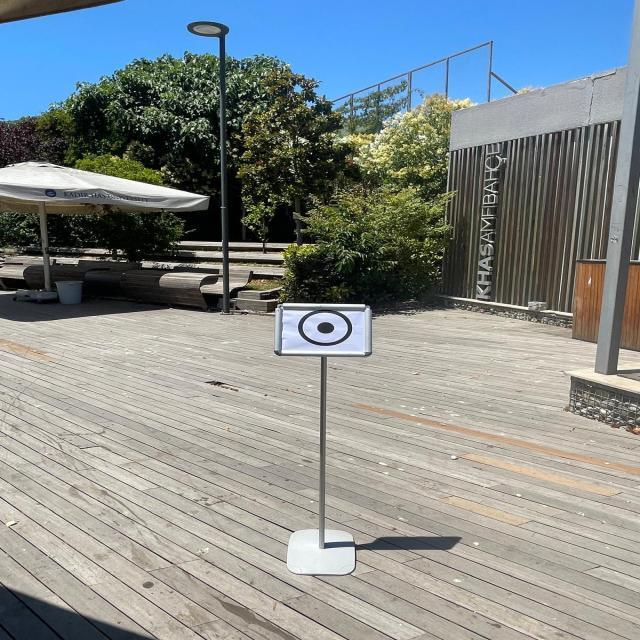Target: (264, 286, 390, 372)
inner: (312, 315, 341, 341)
